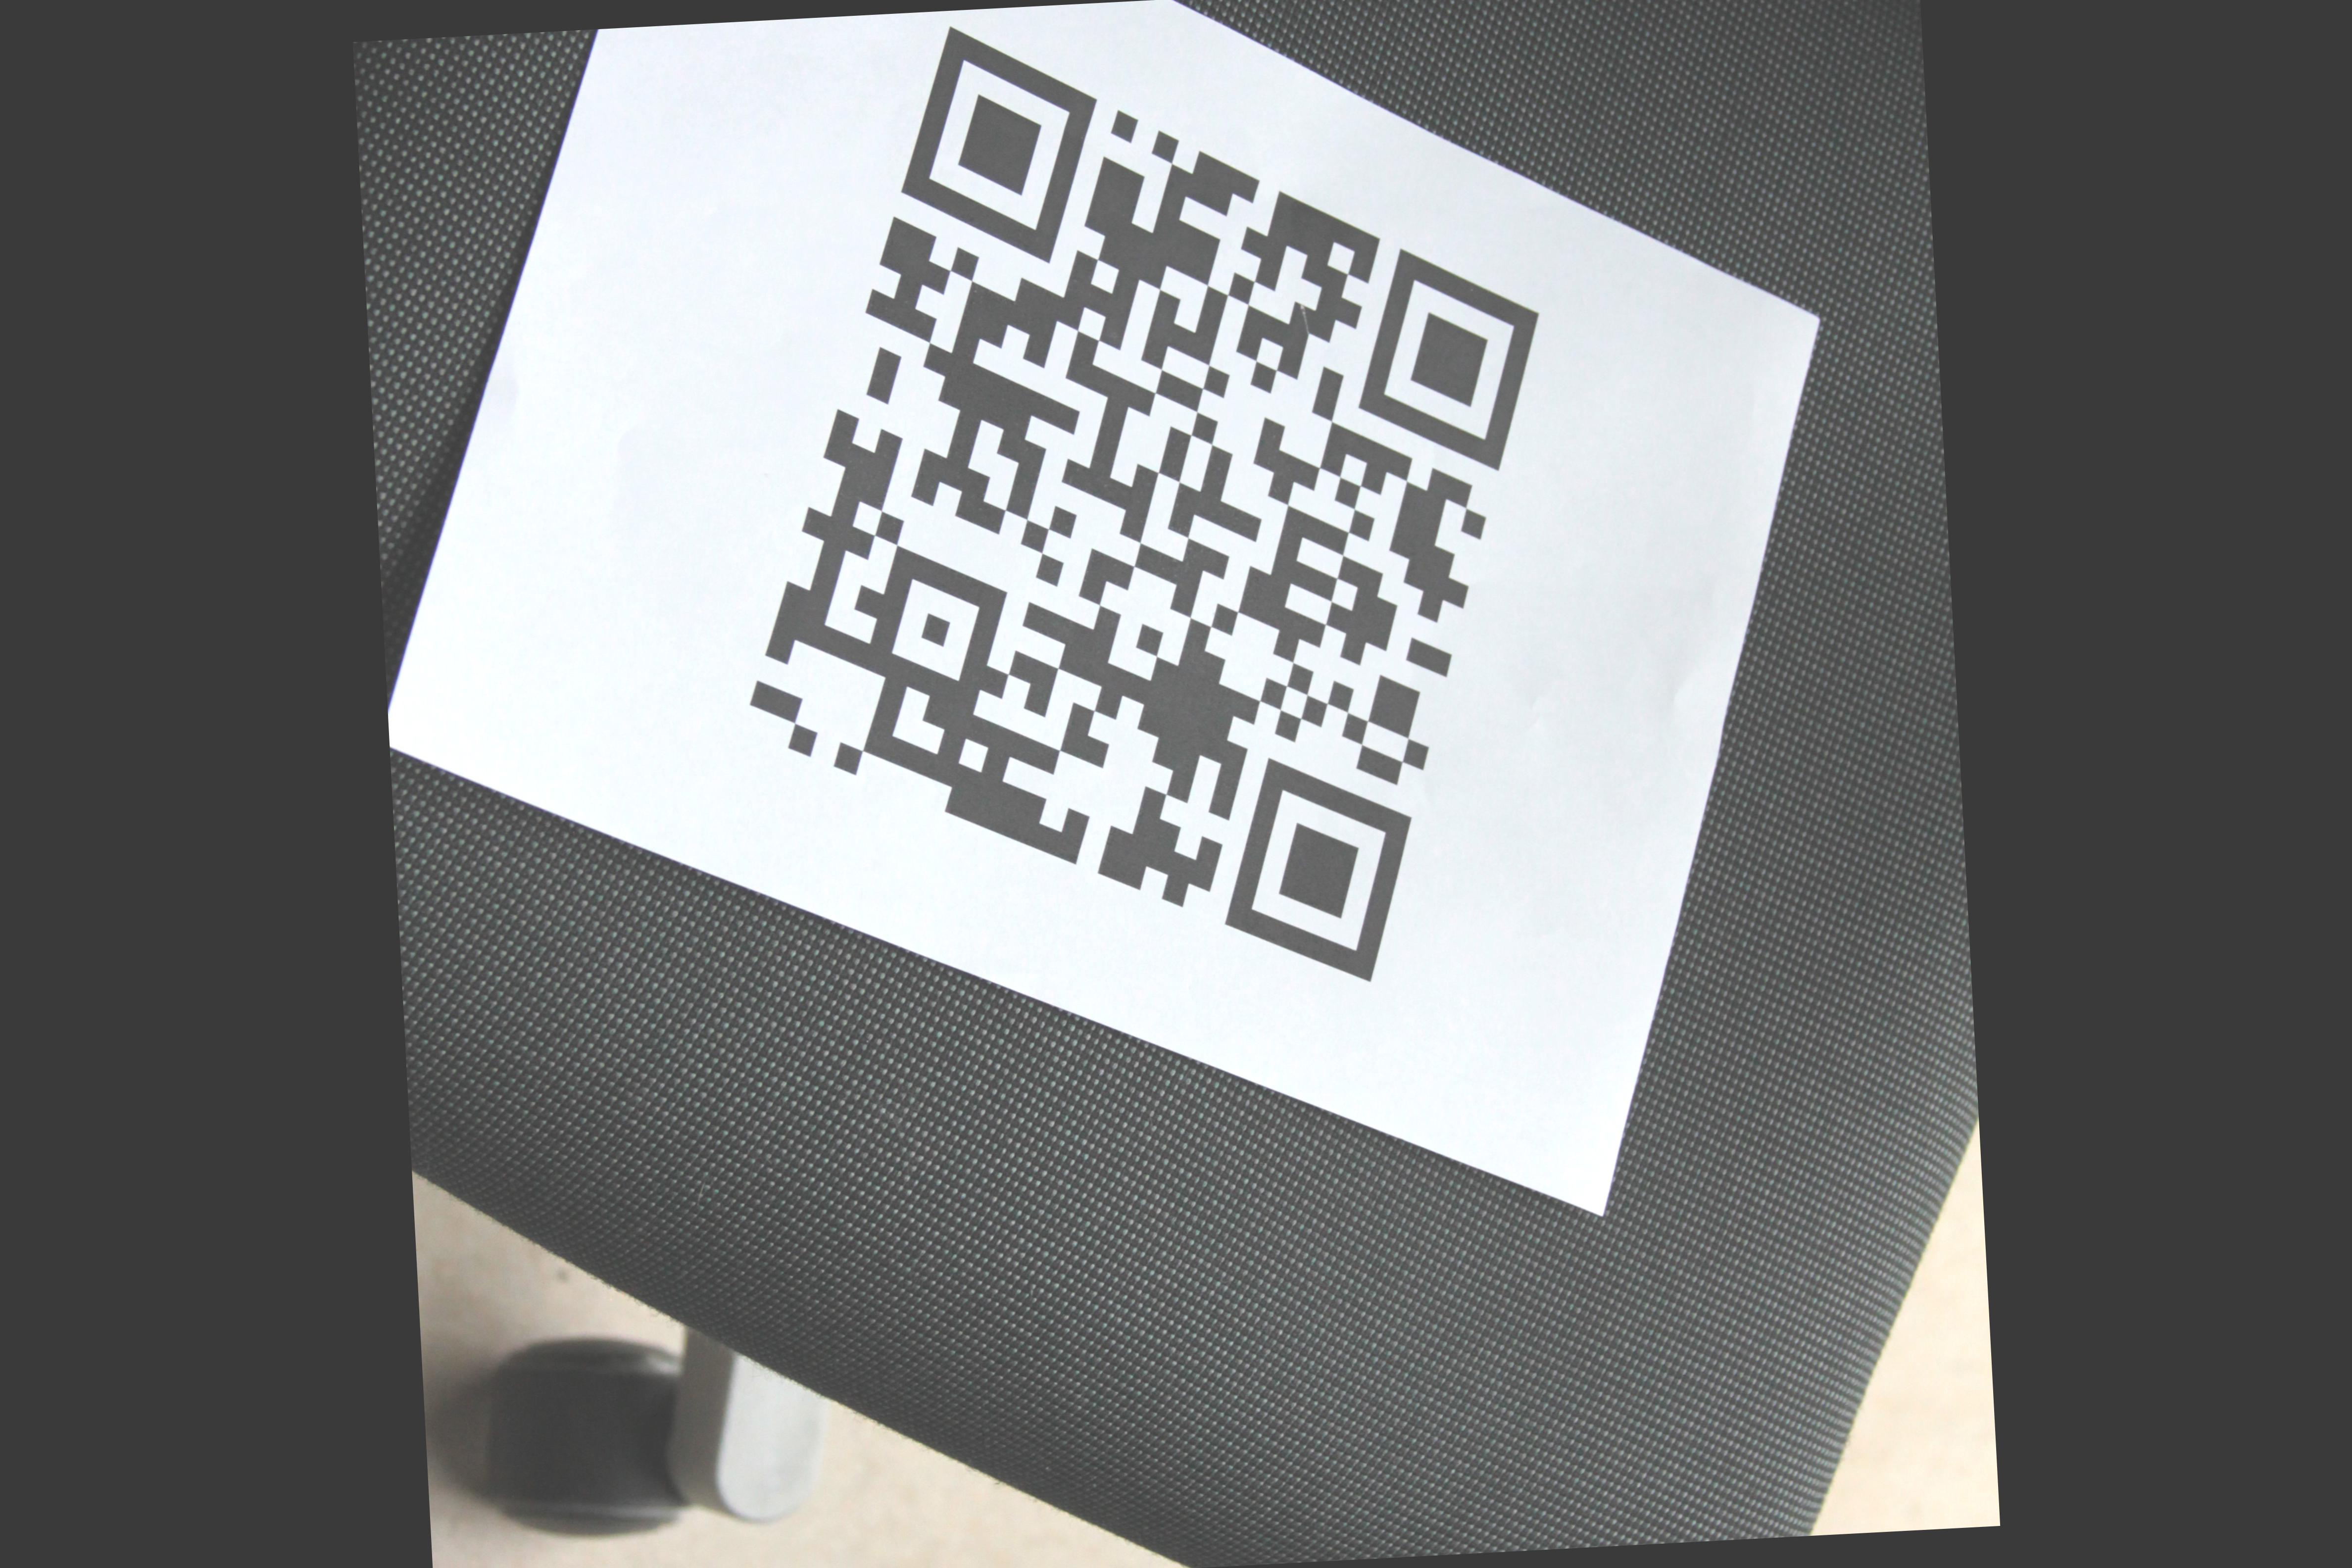QR: (754, 30, 1536, 1036)
